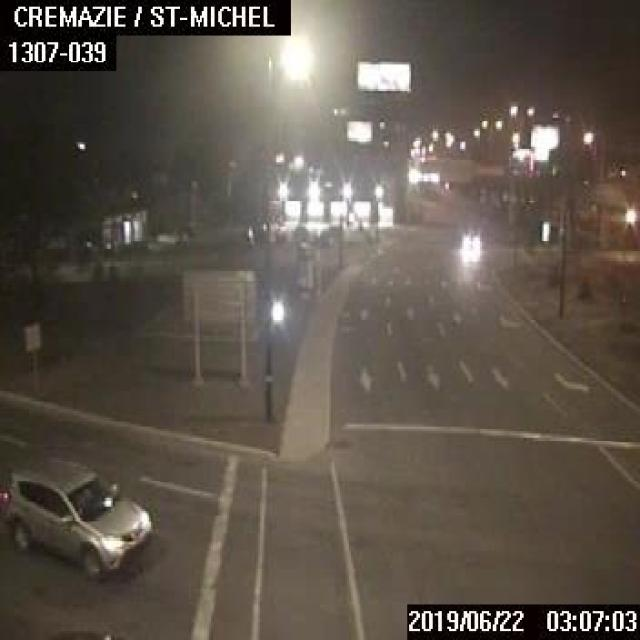vehicle: (0, 456, 153, 578), (460, 231, 480, 249)
